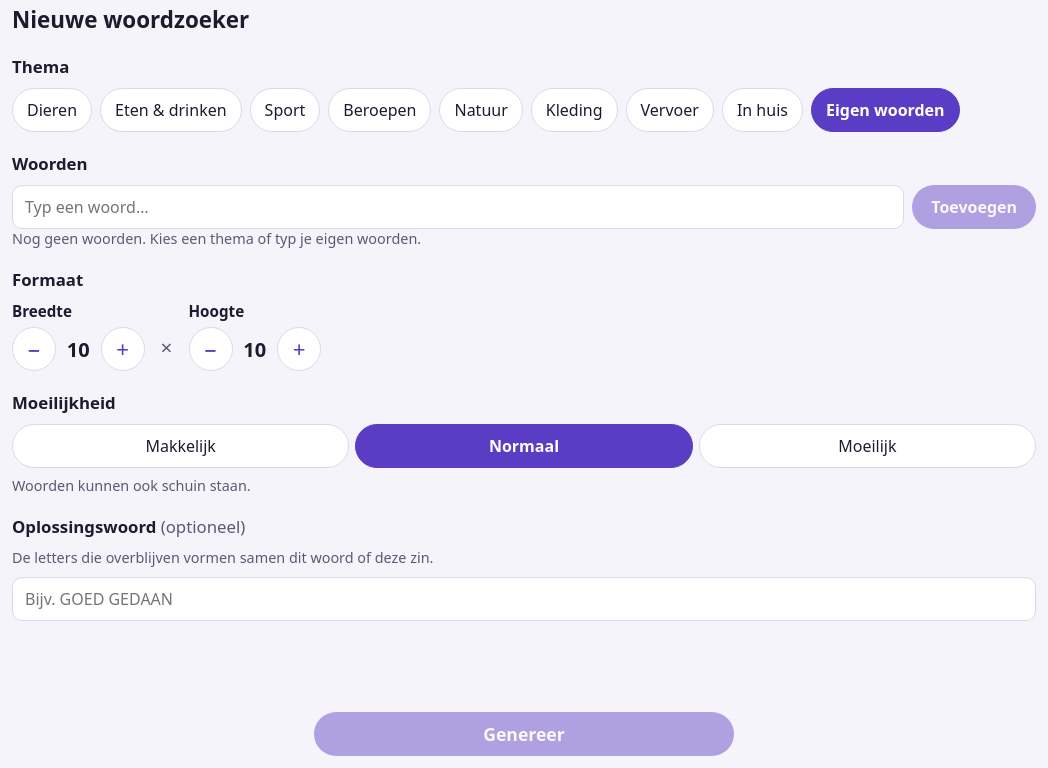
Scenario: SetupScreen › marks words that are too long for the grid
The width and height of the screenshot is (1048, 768).
Type "brandweerman" into the field named "Woord toevoegen".
click(458, 207); type("brandweerman")  # box [12, 185, 904, 229]
Then press Enter
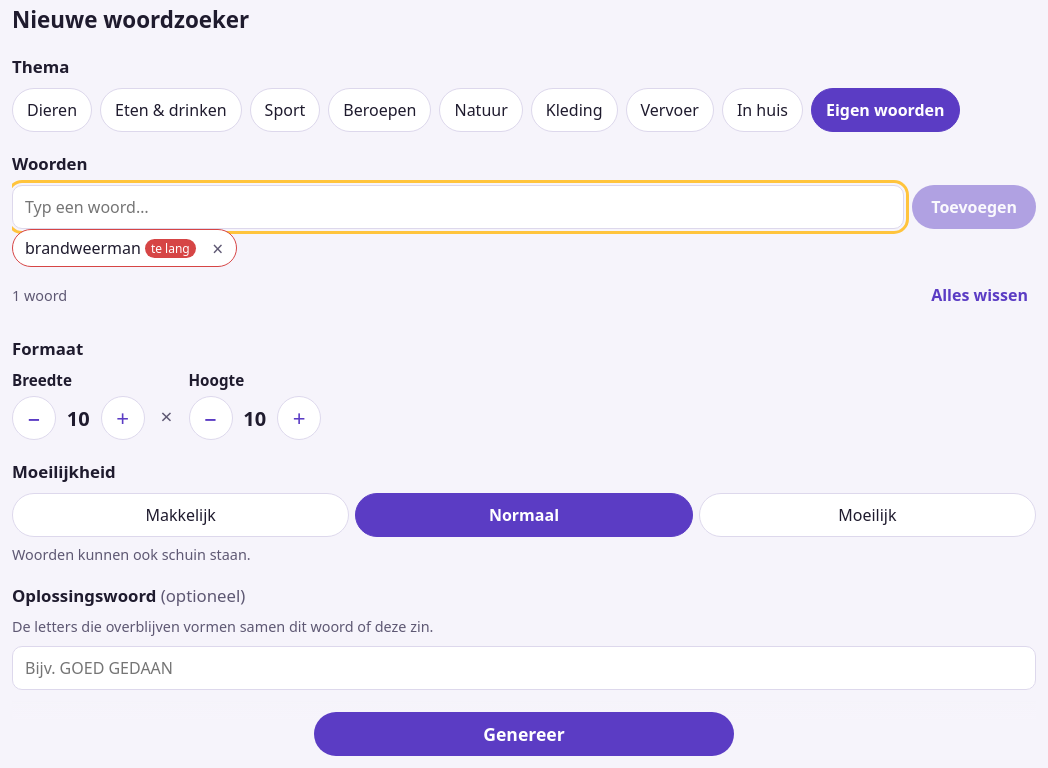
Now the text "te lang" is shown, box [145, 238, 196, 258]
